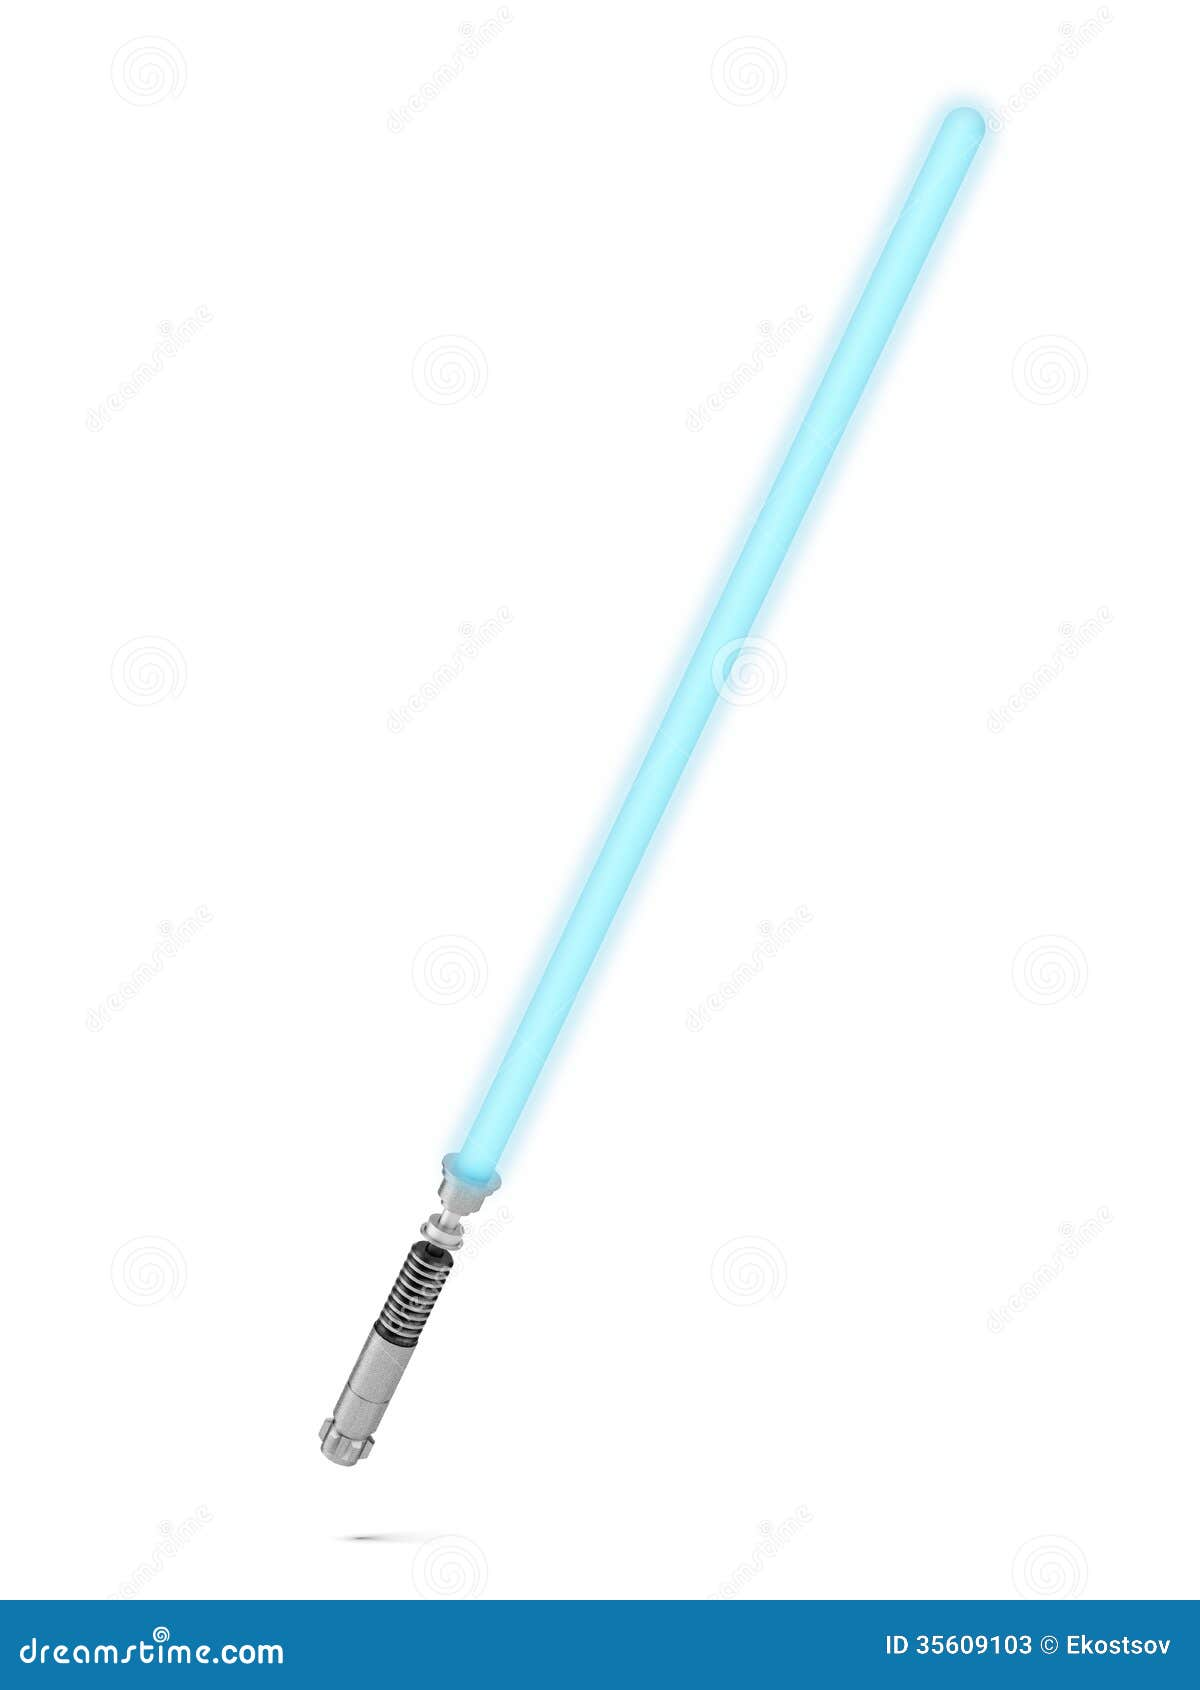lightsaber: (366, 62, 1016, 1545)
